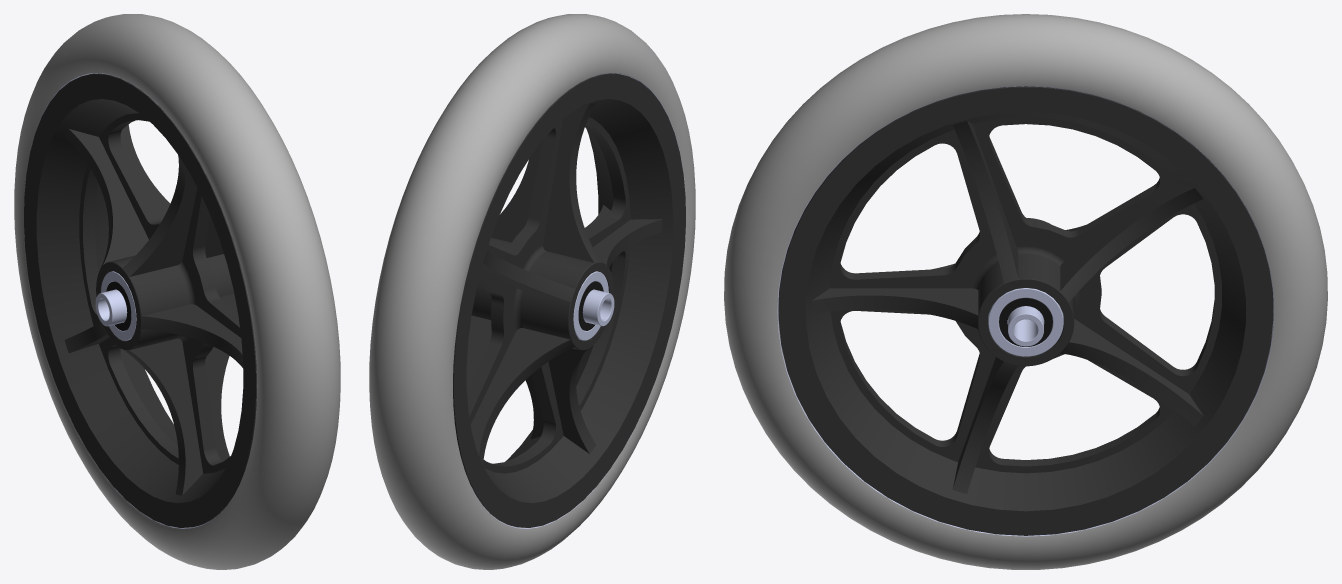
The model's file is Roue avant bandage slim.fbx.
The picture shows the model from 3 angles, left to right: view 1: azimuth 30°, elevation 25°; view 2: azimuth 150°, elevation 25°; view 3: azimuth 270°, elevation 25°; orthographic projection. The views are drawn at different scales.
Visible parts, largest first — view 1: Body_2, 3DGeom~5, Body_3, Body_4; view 2: Body_2, 3DGeom~5, Body_3, Body_4; view 3: Body_2, 3DGeom~5, Body_4, 3DGeom~6, Body_3, Body_5.
Boxes of the visible parts, box(x1,y1,x2,y2) form: Body_2: box(24, 73, 256, 527); 3DGeom~5: box(14, 14, 340, 569); Body_3: box(95, 289, 127, 326); Body_4: box(101, 271, 136, 340); Body_2: box(453, 73, 685, 527); 3DGeom~5: box(369, 14, 695, 569); Body_3: box(582, 289, 614, 326); Body_4: box(573, 271, 608, 340); Body_2: box(778, 86, 1273, 535); 3DGeom~5: box(724, 14, 1327, 569); Body_4: box(988, 288, 1063, 356); 3DGeom~6: box(777, 86, 1274, 536); Body_3: box(1008, 306, 1043, 346); Body_5: box(999, 298, 1052, 346).
Bounding box in the file's own units: 0.06 × 0.1998 × 0.1998.
